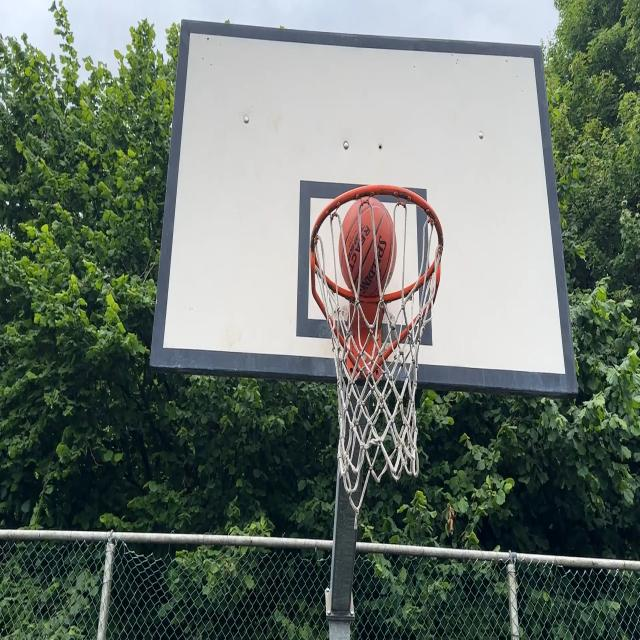rebound_hit: (339, 195, 397, 297)
